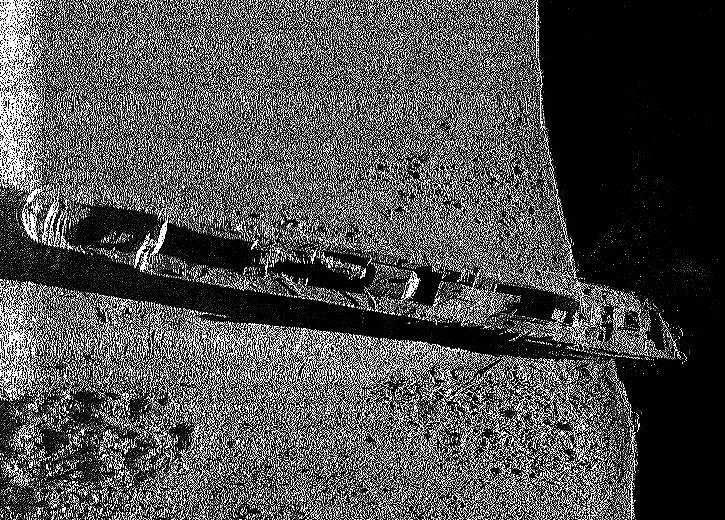ship: (17, 180, 693, 373)
